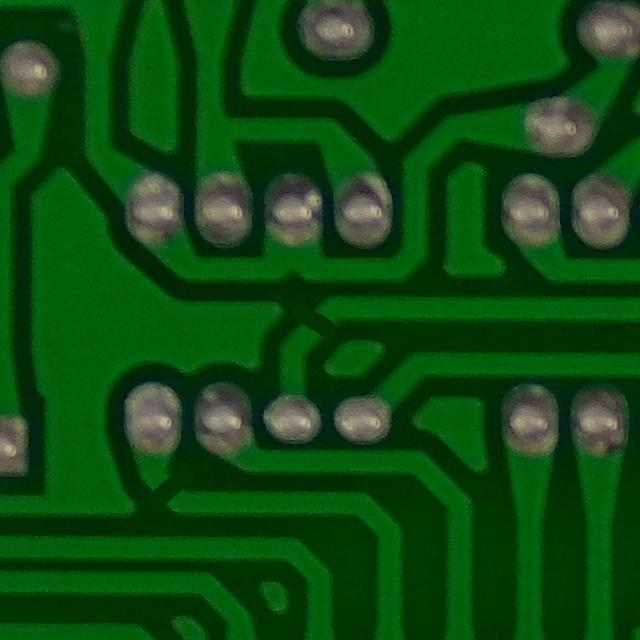open_circuit: (292, 294, 348, 346)
